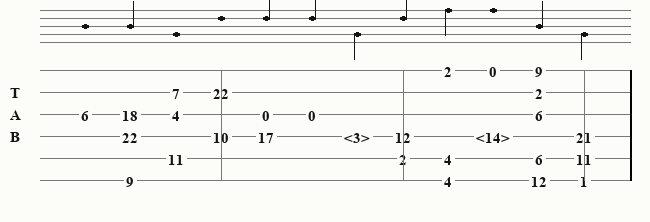0: (262, 107, 274, 121), (308, 107, 320, 121), (489, 63, 501, 77)
1: (580, 173, 592, 187)
10: (213, 129, 233, 143)
11: (168, 151, 188, 165), (576, 151, 596, 165)
12: (395, 129, 415, 143), (531, 173, 551, 187)
17: (258, 129, 278, 143)
18: (122, 107, 142, 121)
2: (399, 151, 411, 165), (444, 63, 456, 77), (535, 85, 547, 99)
21: (576, 129, 596, 143)
22: (122, 129, 142, 143), (213, 85, 233, 99)
4: (172, 107, 184, 121), (444, 151, 456, 165), (444, 173, 456, 187)
6: (81, 107, 93, 121), (535, 151, 547, 165), (535, 107, 547, 121)
7: (172, 85, 184, 99)
9: (126, 173, 138, 187), (535, 63, 547, 77)
harmonic: (476, 129, 514, 143), (344, 129, 374, 143)
